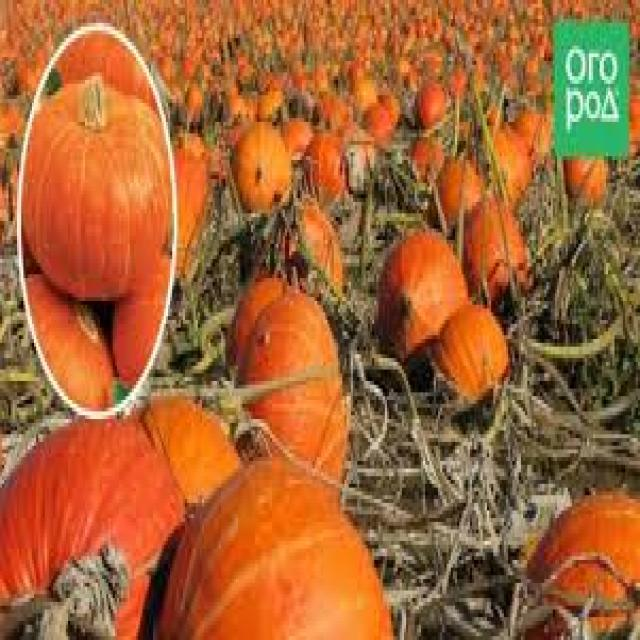pumpkin: (9, 0, 640, 97), (0, 420, 199, 640), (155, 468, 404, 640), (30, 56, 184, 313), (230, 276, 358, 488), (514, 472, 640, 639), (28, 268, 134, 429), (375, 207, 465, 383), (418, 277, 507, 425), (128, 384, 232, 500), (282, 185, 346, 313), (228, 111, 302, 212), (461, 178, 524, 288), (359, 88, 455, 144), (483, 104, 545, 186), (435, 151, 486, 243), (294, 131, 350, 204)
